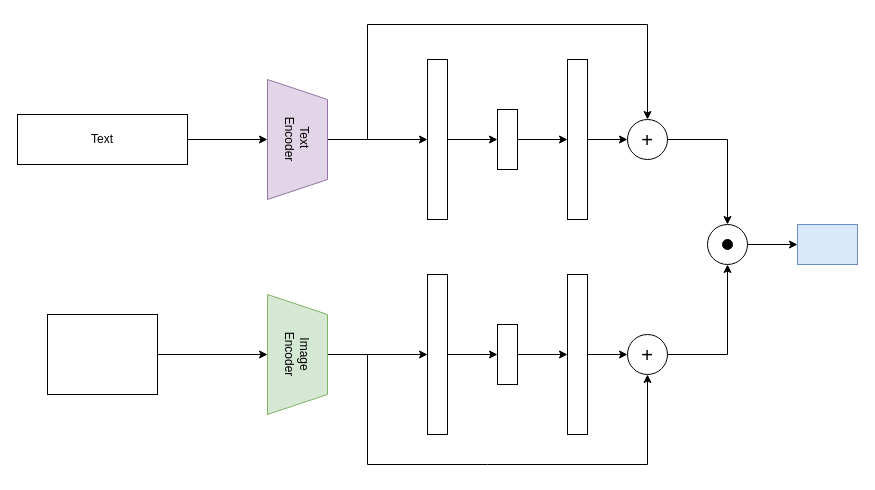
The diagram is 875 pixels wide and 490 high, and some of its shapes have lost their labels. The centre of each missing label's shape, as x and y in pixels:
"Image" belongs at pixel 102 354.
"Similarity score" belongs at pixel 827 244.
